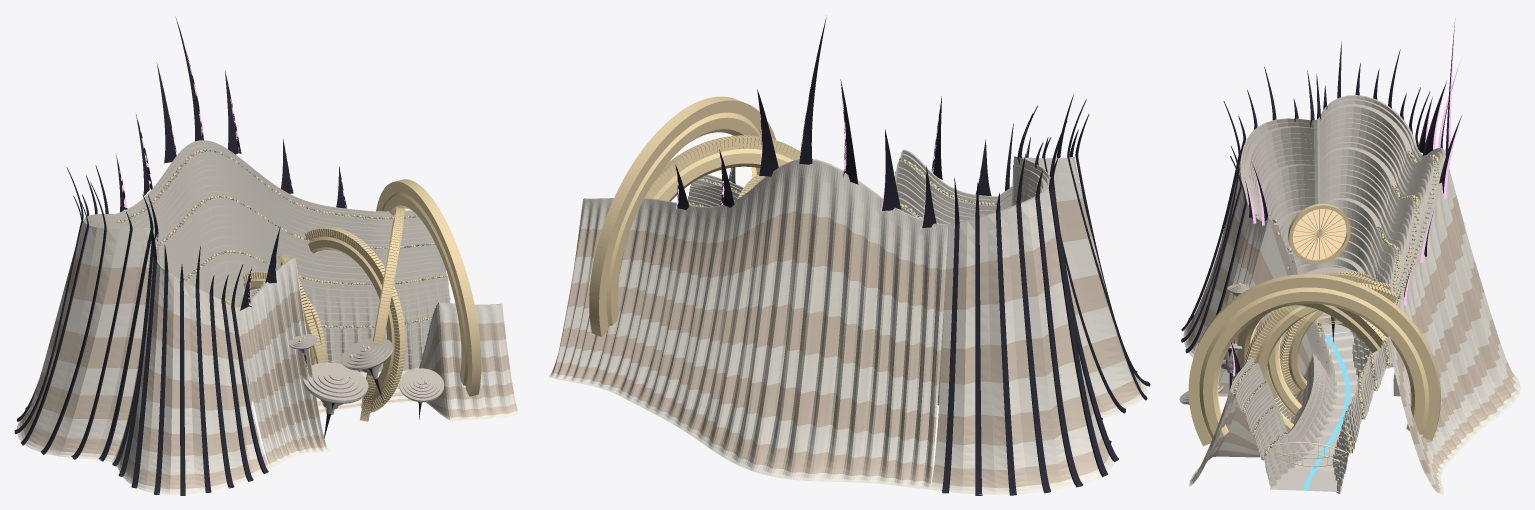
File: C55A_R25_LOCAL_EDIT.glb
3 views of the same model, side by side, from view 1: azimuth 30°, elevation 25°; view 2: azimuth 150°, elevation 25°; view 3: azimuth 270°, elevation 25° (orthographic). The views are drawn at different scales.
Parts seen in each view (by area): view 1: N_wall_risers, apse_outer_shell, apse_outer_band, apse_rear_fins, S_wall_outer_shell, S_wall_outer_band, N_wall_ledges, halo7_teeth0, halo5_teeth0, halo7_body_0, sky_isle_1_top_ledges, halo6_teeth0 (+8 smaller); view 2: N_wall_outer_shell, N_wall_outer_band, apse_outer_shell, apse_outer_band, apse_rear_fins, halo7_teeth0, S_wall_risers, halo7_body_0, halo6_teeth0, halo6_body_0, S_wall_ledges, apse_risers (+4 smaller); view 3: apse_risers, N_wall_outer_shell, N_wall_outer_band, halo7_body_0, apse_ledges, halo7_teeth0, N_wall_ledges, S_wall_risers, N_wall_risers, S_wall_ledges, S_wall_outer_shell, apse_rear_fins (+21 smaller).
Part boxes in pixels (bbox=[...]): N_wall_risers: bbox=[116, 141, 450, 371]; apse_outer_shell: bbox=[17, 220, 270, 494]; apse_outer_band: bbox=[21, 255, 268, 489]; apse_rear_fins: bbox=[14, 165, 268, 495]; S_wall_outer_shell: bbox=[235, 258, 518, 467]; S_wall_outer_band: bbox=[240, 290, 517, 464]; N_wall_ledges: bbox=[115, 140, 450, 366]; halo7_teeth0: bbox=[376, 179, 481, 396]; halo5_teeth0: bbox=[305, 227, 405, 412]; halo7_body_0: bbox=[383, 191, 467, 385]; sky_isle_1_top_ledges: bbox=[303, 362, 368, 400]; halo6_teeth0: bbox=[360, 207, 405, 421]; N_wall_outer_shell: bbox=[548, 160, 948, 489]; N_wall_outer_band: bbox=[552, 211, 945, 483]; apse_outer_shell: bbox=[930, 156, 1147, 494]; apse_outer_band: bbox=[932, 196, 1141, 487]; apse_rear_fins: bbox=[942, 95, 1150, 495]; halo7_teeth0: bbox=[589, 96, 776, 336]; S_wall_risers: bbox=[687, 150, 997, 224]; halo7_body_0: bbox=[606, 112, 761, 325]; halo6_teeth0: bbox=[644, 135, 800, 198]; halo6_body_0: bbox=[653, 148, 792, 201]; S_wall_ledges: bbox=[688, 149, 997, 223]; apse_risers: bbox=[995, 156, 1049, 211]; apse_risers: bbox=[1242, 96, 1414, 331]; N_wall_outer_shell: bbox=[1390, 153, 1520, 495]; N_wall_outer_band: bbox=[1396, 195, 1515, 492]; halo7_body_0: bbox=[1199, 287, 1429, 439]; apse_ledges: bbox=[1240, 95, 1416, 314]; halo7_teeth0: bbox=[1188, 274, 1440, 446]; N_wall_ledges: bbox=[1333, 145, 1445, 486]; S_wall_risers: bbox=[1231, 215, 1336, 490]; N_wall_risers: bbox=[1333, 145, 1442, 493]; S_wall_ledges: bbox=[1230, 215, 1336, 485]; S_wall_outer_shell: bbox=[1189, 215, 1313, 486]; apse_rear_fins: bbox=[1181, 42, 1430, 353].
Size of the model in its own units: 6957 by 5795 by 4729.
